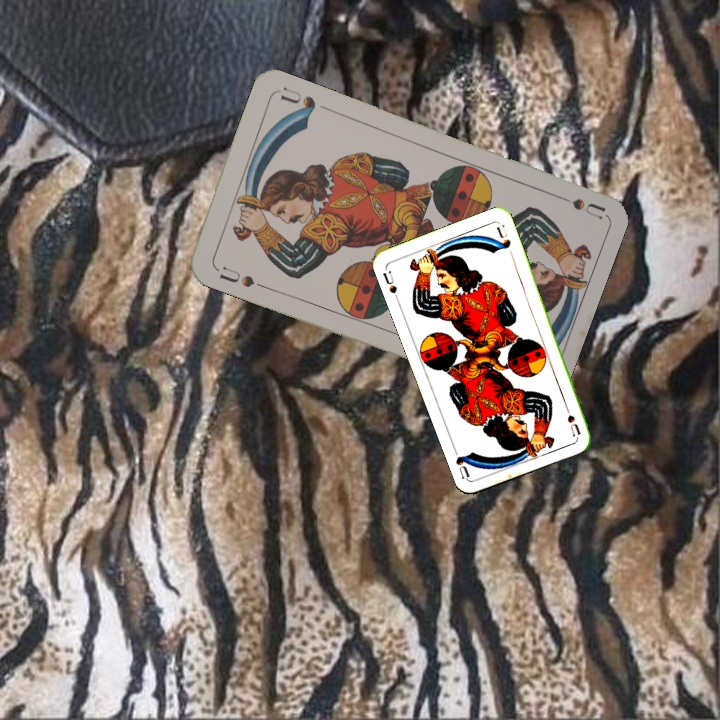SU: (548, 189, 606, 222), (215, 262, 268, 291), (560, 398, 583, 438), (378, 267, 400, 296)
